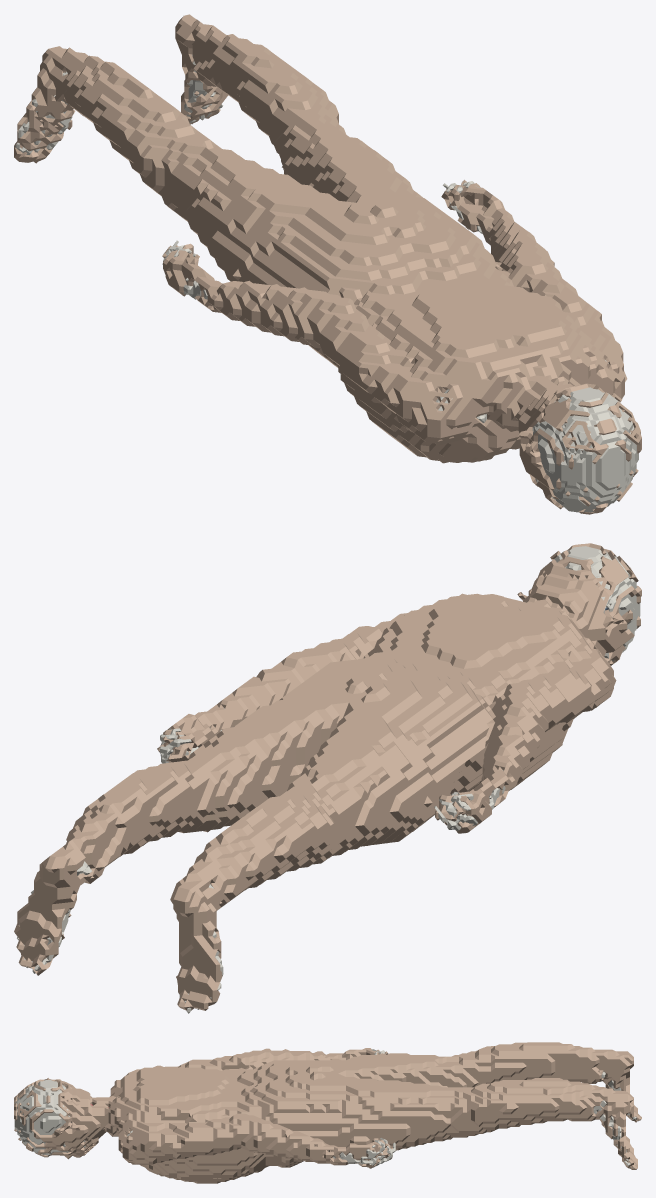
Rendered from pediatric.glb.
3 views of the same model, one above another, from view 1: azimuth 30°, elevation 25°; view 2: azimuth 150°, elevation 25°; view 3: azimuth 270°, elevation 25° (orthographic). The views are drawn at different scales.
Visible parts, largest first — view 1: world; view 2: world; view 3: world.
Boxes of the visible parts, x1,y1,x2,y2 form: world: (14, 14, 641, 514); world: (14, 543, 641, 1013); world: (14, 1042, 641, 1183).
Bounding box in the file's own units: 508 × 270 × 1404.
